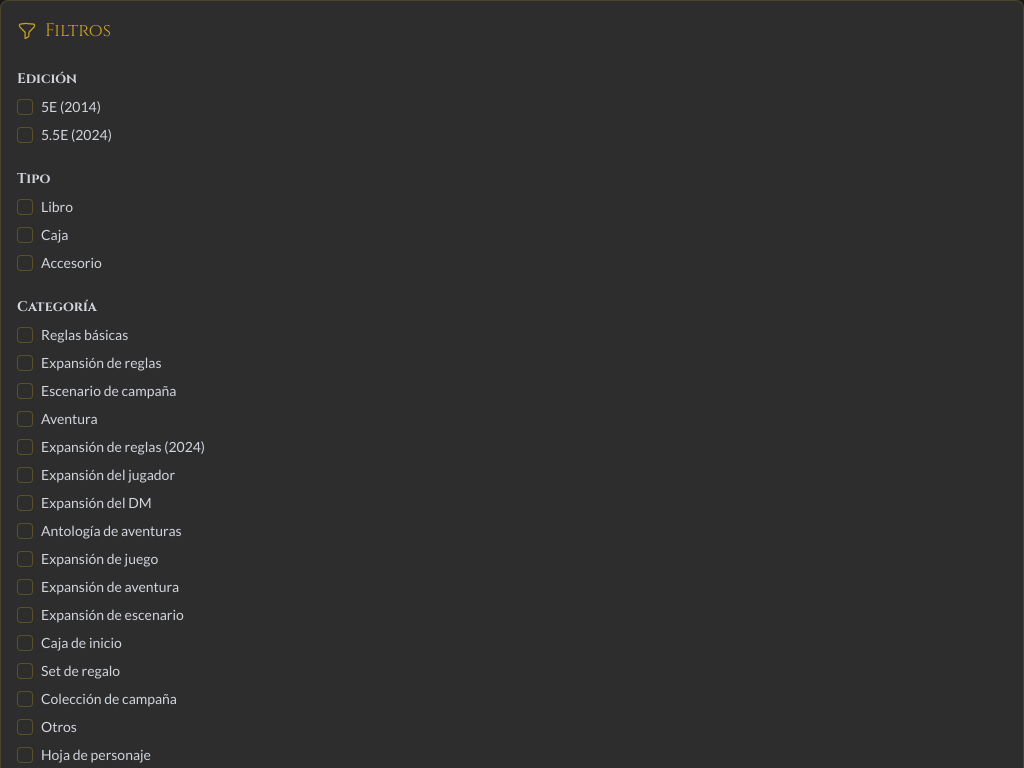
Test: FilterPanel › el contador suma los filtros de todas las secciones
The width and height of the screenshot is (1024, 768).
Click the checkbox labelled "5E (2014)" at (25, 107), box top-left (17, 99), bottom-right (33, 115)
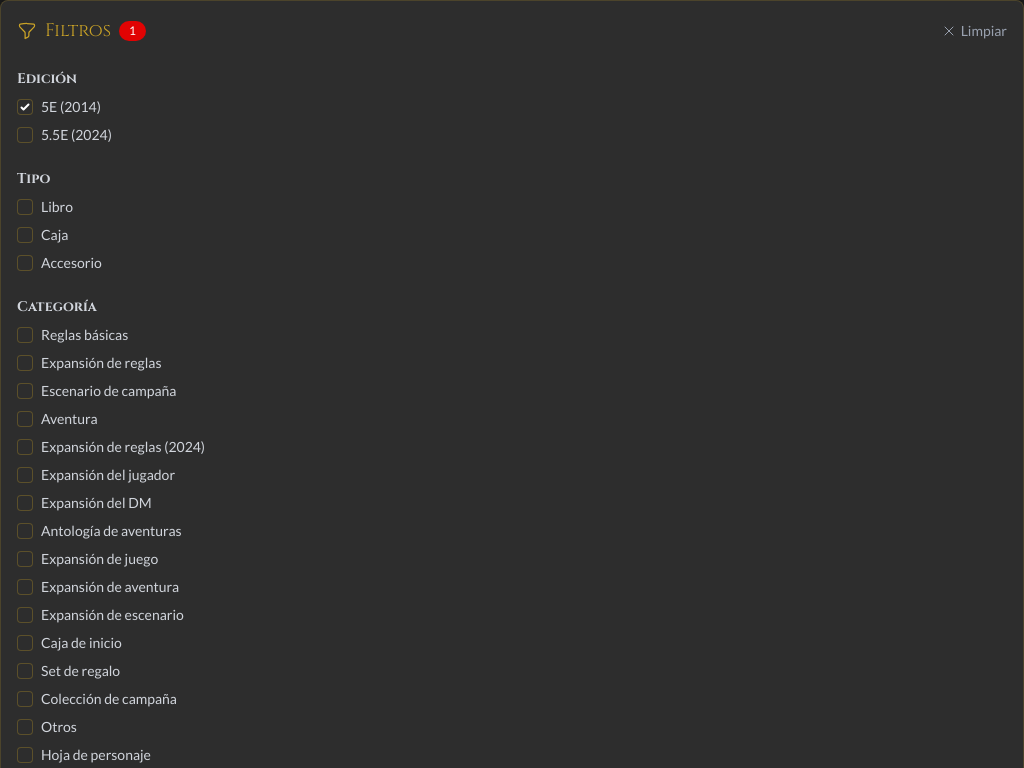
Click the checkbox labelled "Libro" at (25, 207), box top-left (17, 199), bottom-right (33, 215)
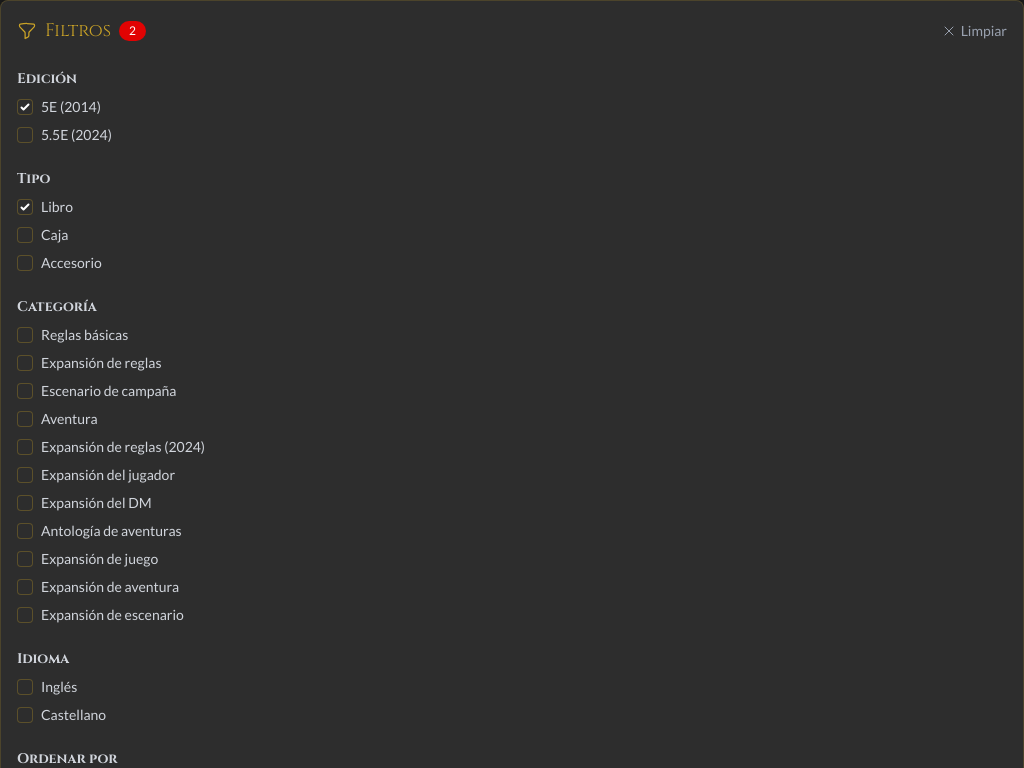
Click the checkbox labelled "Inglés" at (25, 687), box top-left (17, 679), bottom-right (33, 695)
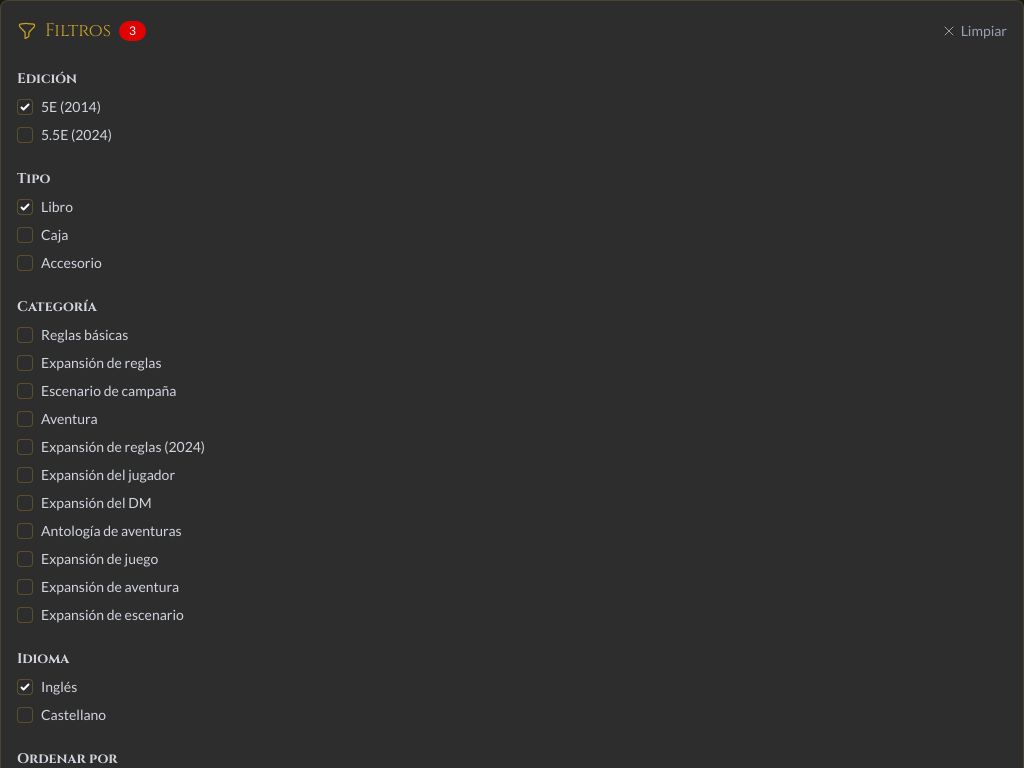
Result: the text "3" is shown at top-left (119, 21), bottom-right (146, 41)
